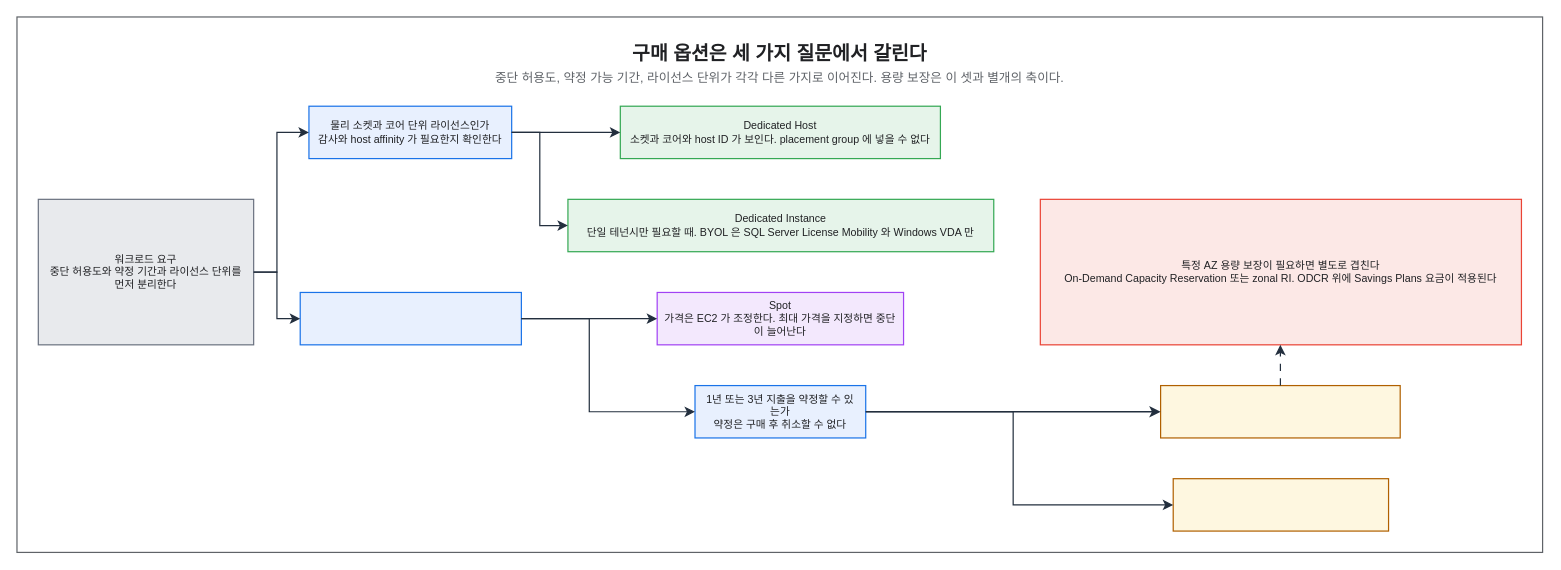
This 1561x570 diagram has some shape labels left out. The centre of each missing label's shape, as x and y in pixels:
"2분 통지로 중단을 견디는가 stateless 이고 체크포인트가 있는 작업인지 확인한다" goes at pixel 410 318.
"On-Demand 약정 없는 기준 가격. 변동분과 검증 구간이 여기 남는다" goes at pixel 1280 504.
"Savings Plans 또는 Reserved Instances 요금 할인만 준다. 어떤 형태로도 용량을 예약하지 않는다" goes at pixel 1280 411.
